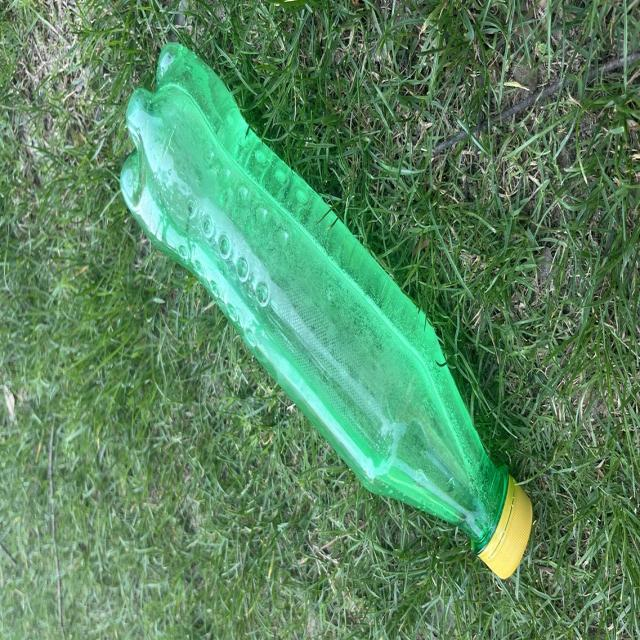medium: (120, 44, 531, 578)
